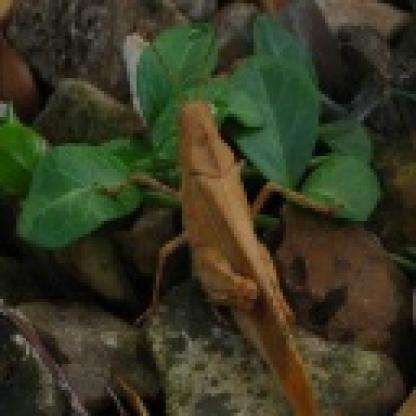grasshopper: (131, 92, 336, 416)
